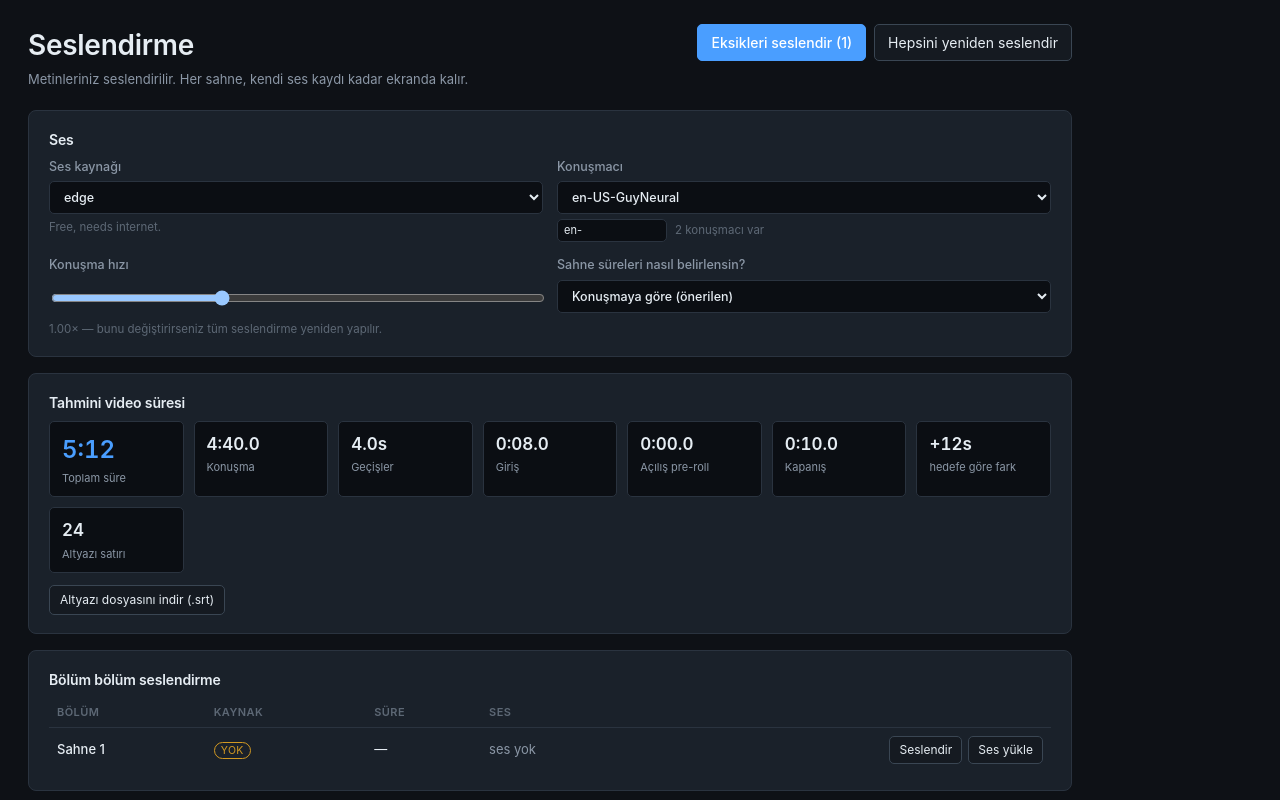
Scenario: AudioPage › surfaces a generation failure through the structured ErrorBox
The width and height of the screenshot is (1280, 800).
What coordinates should you click on to do the following:
click the button "Eksikleri seslendir (1)"
I would click on:
 (782, 42)
Its box is x1=698 y1=24 x2=866 y2=61.
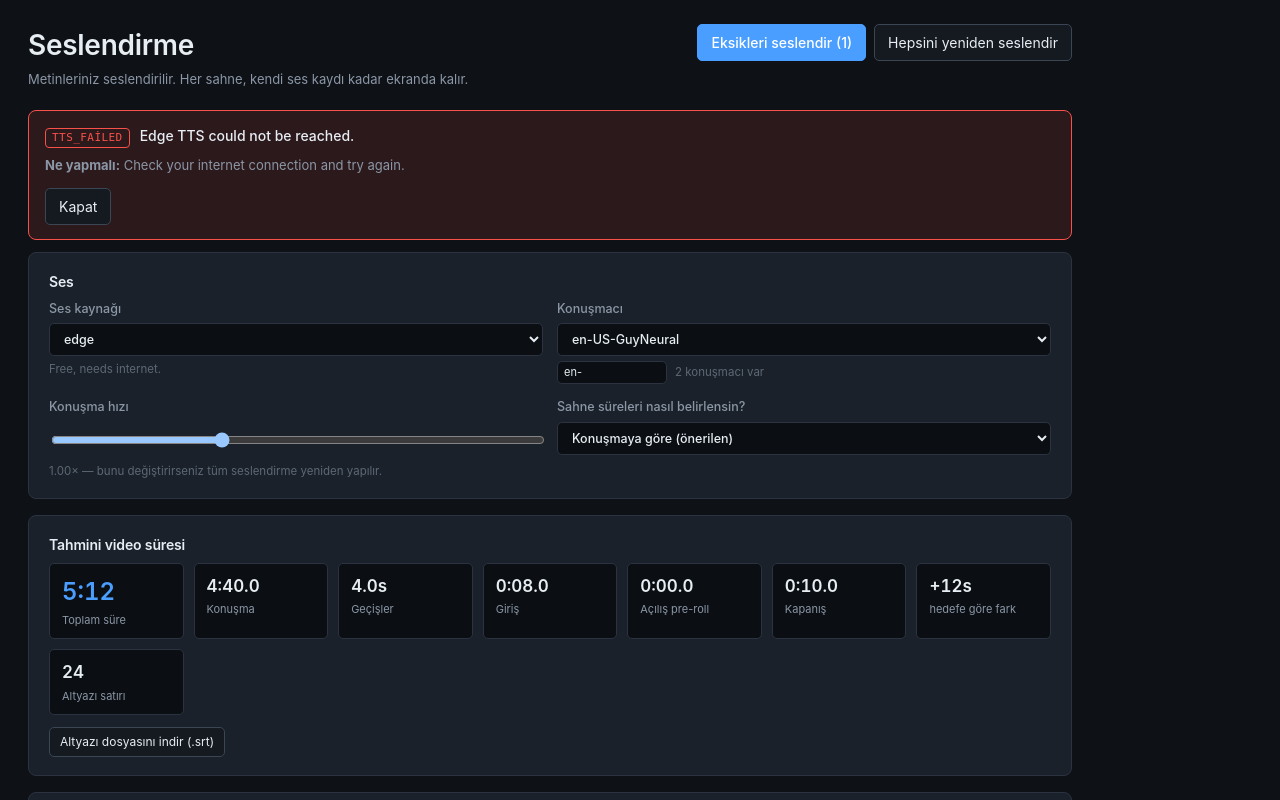
Expected: the message shows "Edge TTS could not be reached.", x1=140 y1=126 x2=354 y2=144
Expected: the message shows "Check your internet connection and try again.", x1=124 y1=157 x2=405 y2=173
